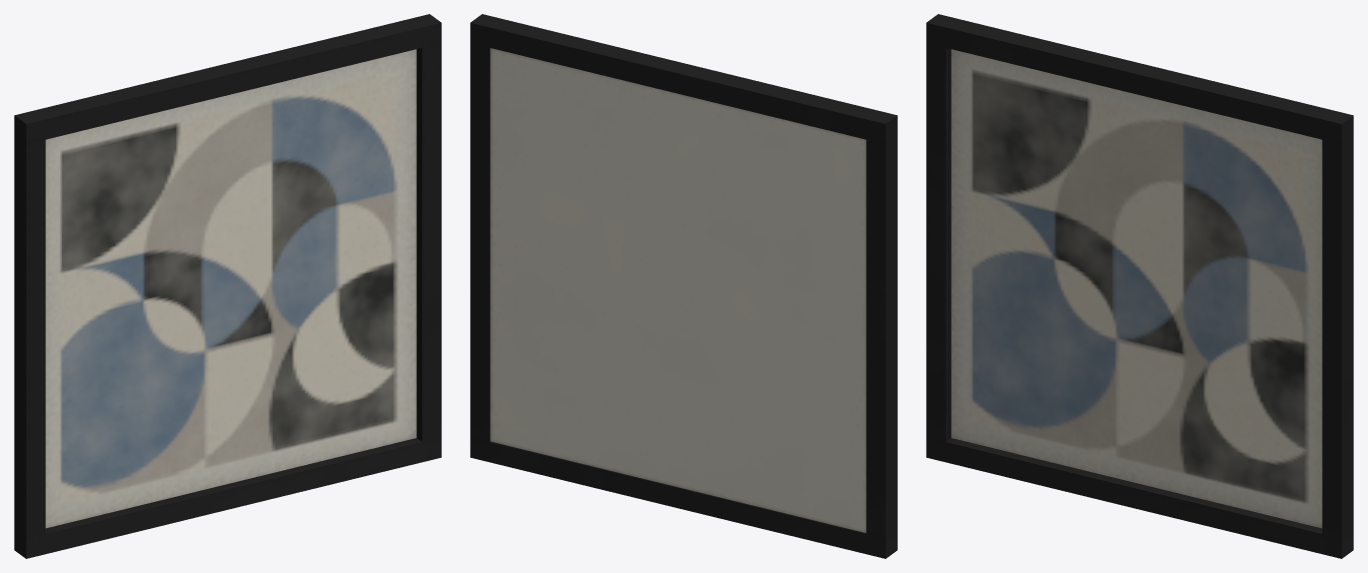
File: H_Frame_Geometric.fbx
The picture shows the model from 3 angles, left to right: view 1: azimuth 30°, elevation 25°; view 2: azimuth 150°, elevation 25°; view 3: azimuth 330°, elevation 25°; orthographic projection.
Visible parts, largest first — view 1: H_Frame_Geometric; view 2: H_Frame_Geometric; view 3: H_Frame_Geometric.
Part boxes in pixels (<box>): H_Frame_Geometric: <box>14,14,441,558</box>; H_Frame_Geometric: <box>470,14,897,558</box>; H_Frame_Geometric: <box>926,14,1353,558</box>.
Size of the model in its own units: 300 by 300 by 15.
Materials: 1 (1 with a texture image).
